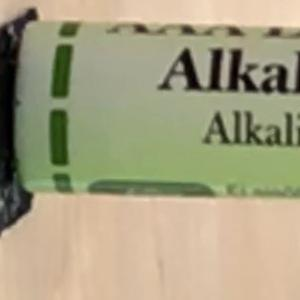ALK: (148, 38, 234, 102)
